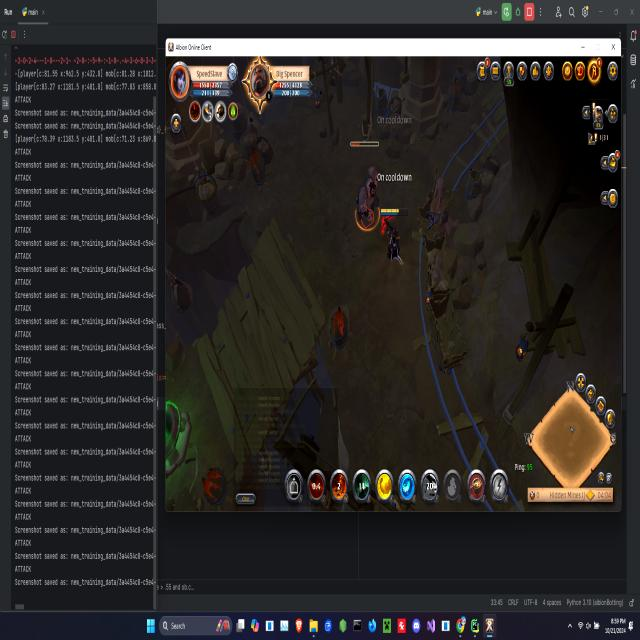ore: (343, 136, 387, 237)
red: (377, 201, 414, 274)
